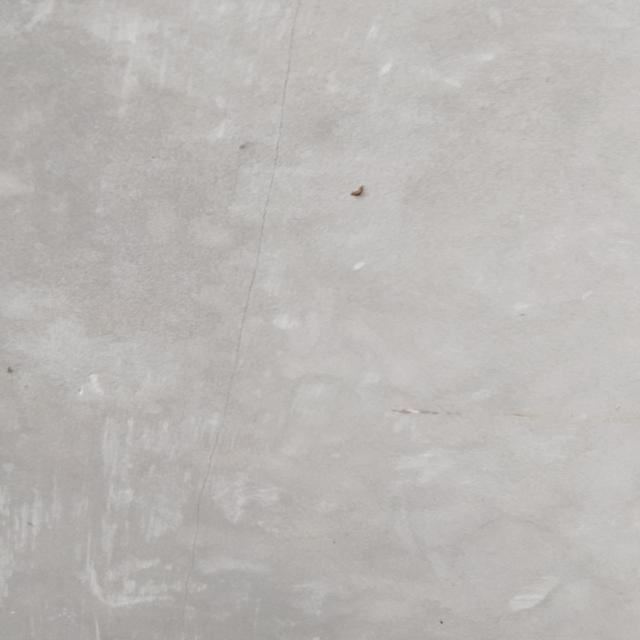Crack: (218, 2, 304, 472)
